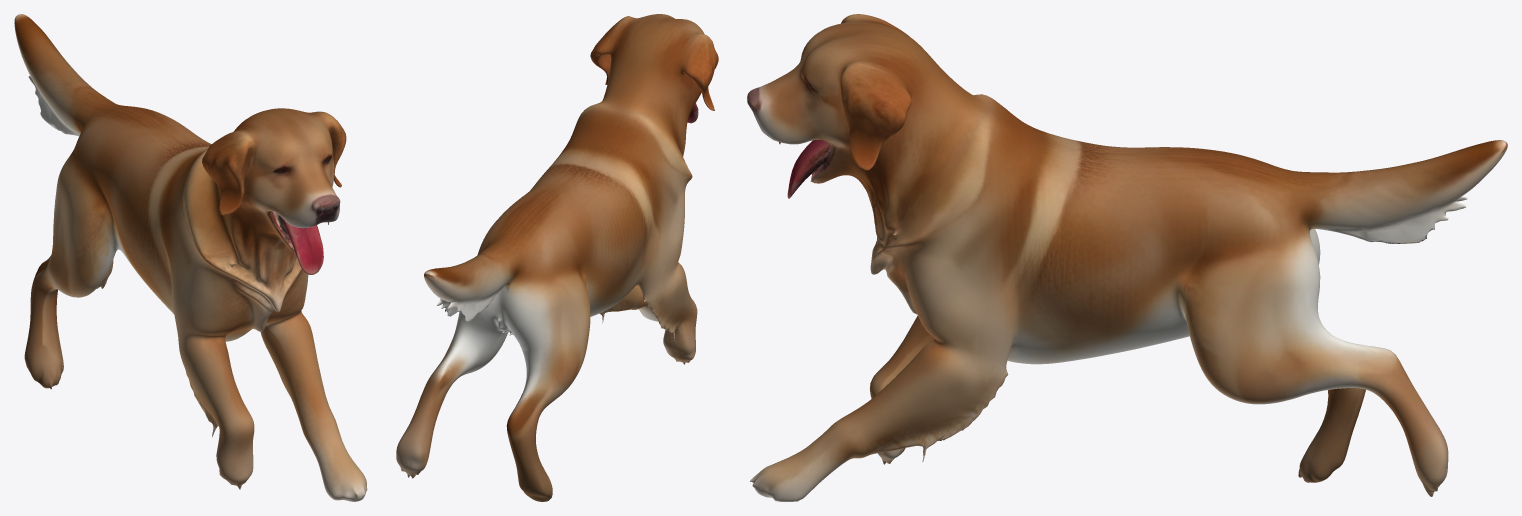
The model's file is dog_running.glb.
3 views of the same model, side by side, from view 1: azimuth 30°, elevation 25°; view 2: azimuth 150°, elevation 25°; view 3: azimuth 270°, elevation 25° (orthographic). The views are drawn at different scales.
Parts seen in each view (by area): view 1: model; view 2: model; view 3: model.
Part boxes in pixels (<box>): model: <box>14,14,367,501</box>; model: <box>396,14,718,501</box>; model: <box>747,14,1507,501</box>.
Size of the model in its own units: 0.4554 by 1.32 by 1.9.
1 material, 1 textured.
